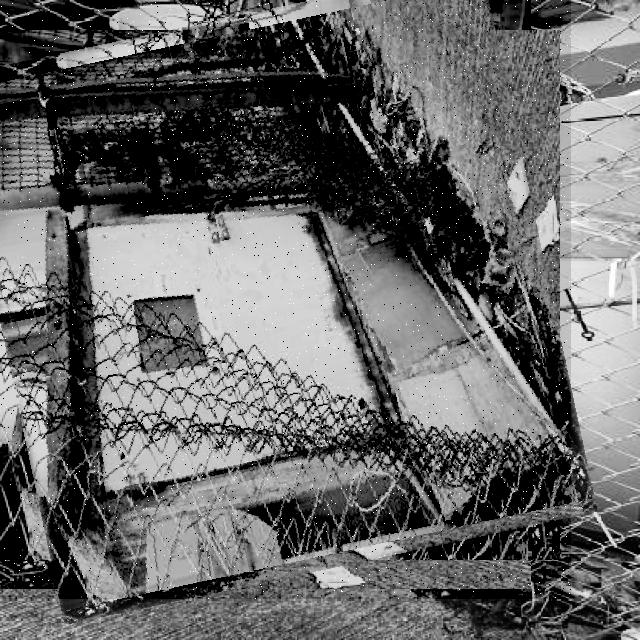anomaly-fence: (0, 0, 571, 599)
